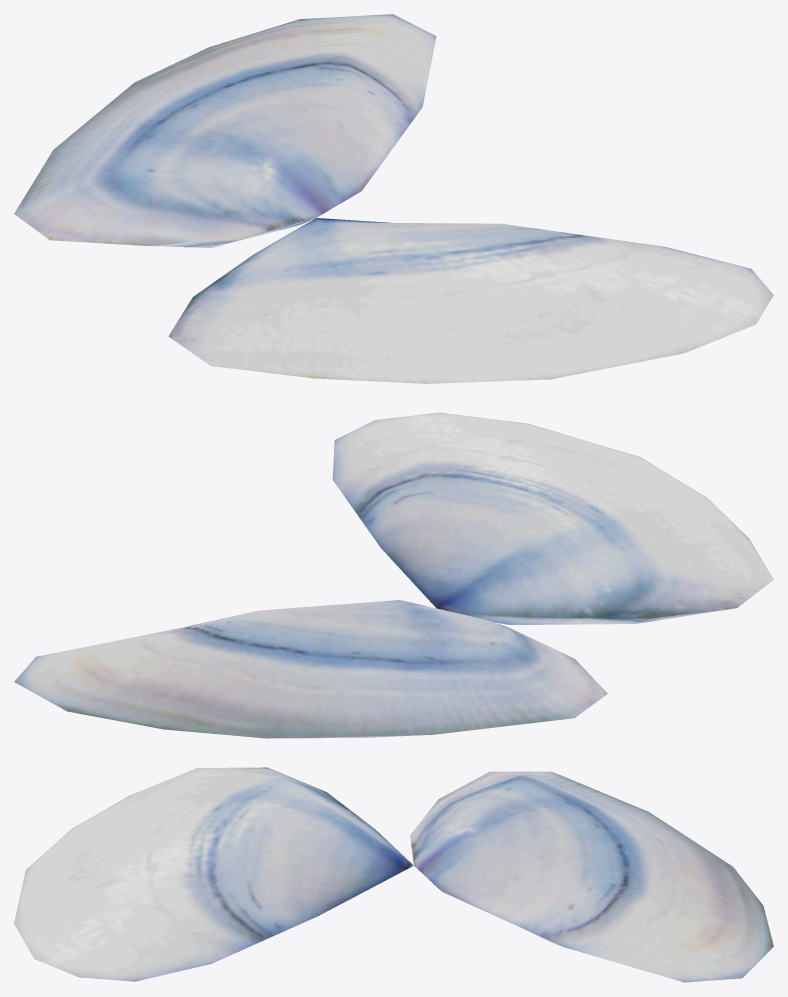
Rendered from SeaShell-10_LOD0_Small.glb.
The picture shows the model from 3 angles, top to bottom: view 1: azimuth 30°, elevation 25°; view 2: azimuth 150°, elevation 25°; view 3: azimuth 270°, elevation 25°; orthographic projection. The views are drawn at different scales.
Visible parts, largest first — view 1: SeaShell-10_high; view 2: SeaShell-10_high; view 3: SeaShell-10_high.
Part boxes in pixels (<box>): SeaShell-10_high: <box>14,14,773,383</box>; SeaShell-10_high: <box>14,412,773,738</box>; SeaShell-10_high: <box>14,767,773,982</box>.
Size of the model in its own units: 0.016 by 0.00294 by 0.0239.
1 material, 1 textured.
